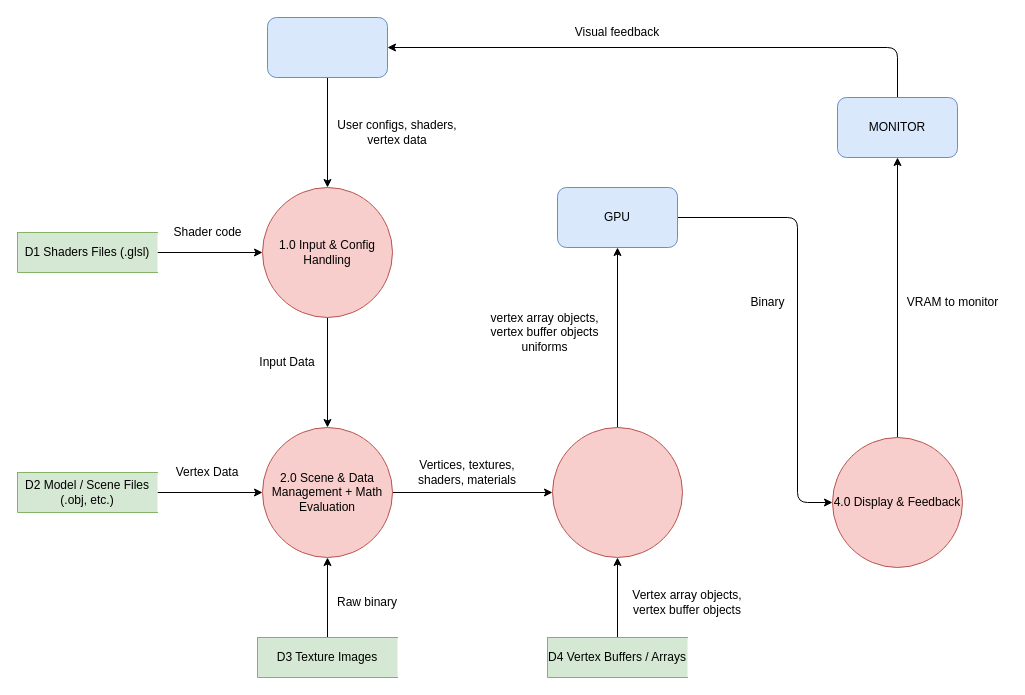
Image size: 1025x695. Some labels were removed from this diagram. The shapes that lost their labels are listed below. From the top down, each one's box as (x1, y1, x2, y2) in pixels, then its label:
(266, 16, 388, 78): USER
(552, 426, 682, 558): 3.0 Rendering Pipeline
